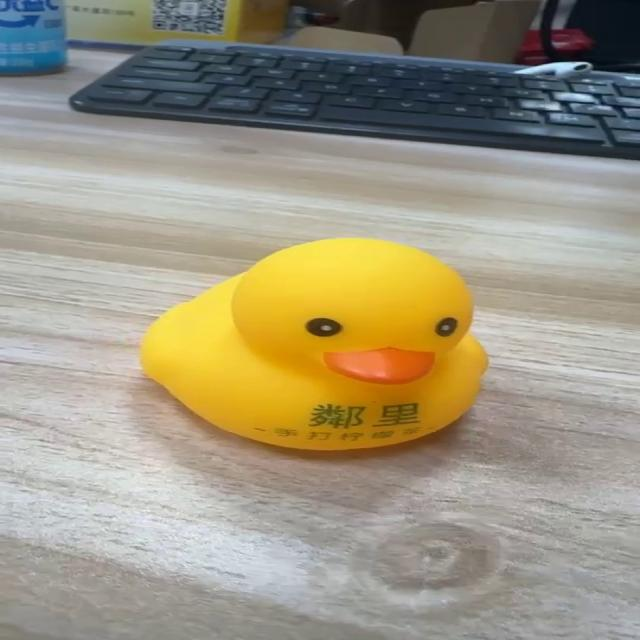yellow_duck: (138, 235, 490, 451)
